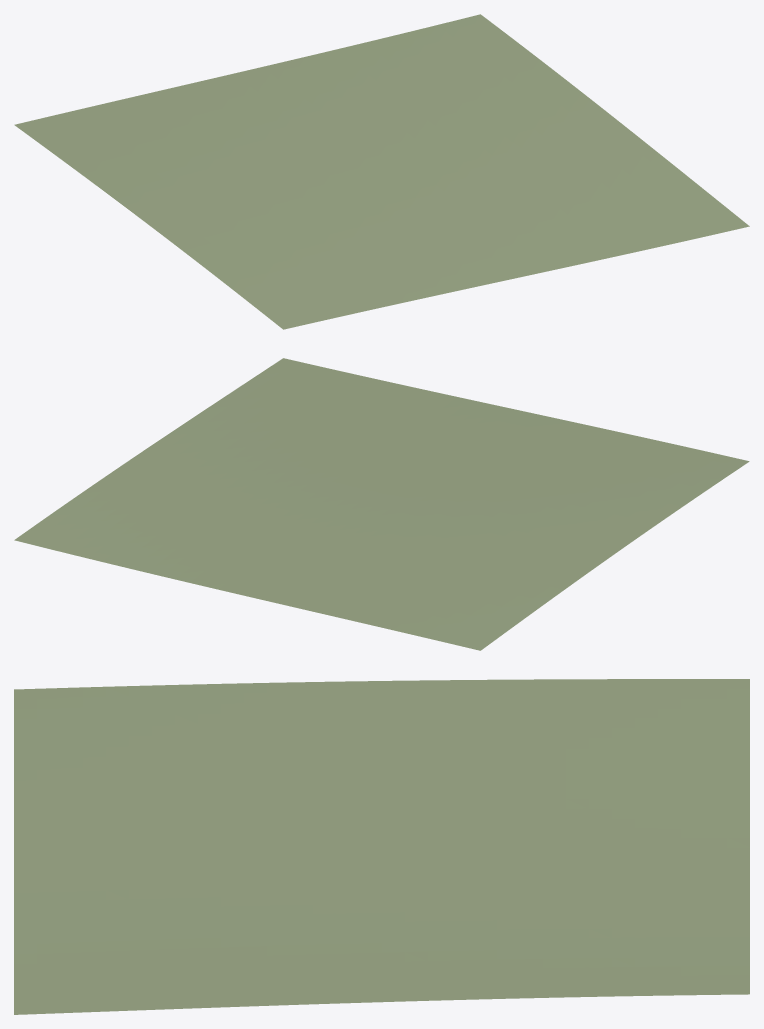
File: expanse-3-2.glb
3 renders of one model, top to bottom at view 1: azimuth 30°, elevation 25°; view 2: azimuth 150°, elevation 25°; view 3: azimuth 270°, elevation 25°, orthographic. The views are drawn at different scales.
Parts seen in each view (by area): view 1: expanse-3-2; view 2: expanse-3-2; view 3: expanse-3-2.
Boxes of the visible parts, x1,y1,x2,y2 form: expanse-3-2: (14, 14, 749, 329); expanse-3-2: (14, 358, 749, 650); expanse-3-2: (14, 679, 749, 1014).
Size of the model in its own units: 256 by 9.57 by 256.
